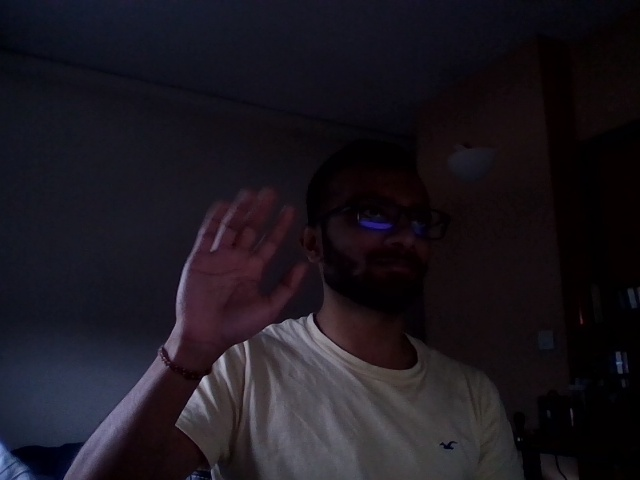Hello: (161, 169, 326, 366)
